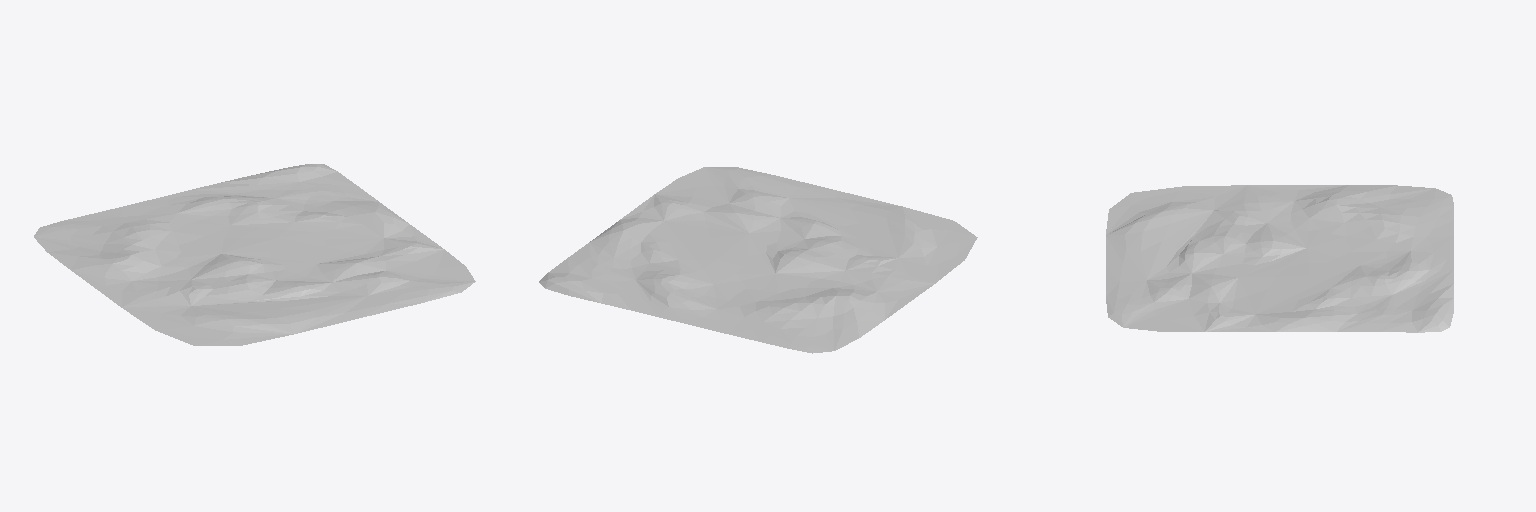
Rendered from Ground2.obj.
The picture shows the model from 3 angles: view 1: azimuth 30°, elevation 25°; view 2: azimuth 150°, elevation 25°; view 3: azimuth 270°, elevation 25°; orthographic projection.
Visible parts, largest first — view 1: Plane_Plane.003; view 2: Plane_Plane.003; view 3: Plane_Plane.003.
Boxes of the visible parts, <box> form: Plane_Plane.003: <box>34,164,475,345</box>; Plane_Plane.003: <box>539,167,977,353</box>; Plane_Plane.003: <box>1106,185,1453,332</box>.
Bounding box in the file's own units: 50 × 1.29 × 50.01.